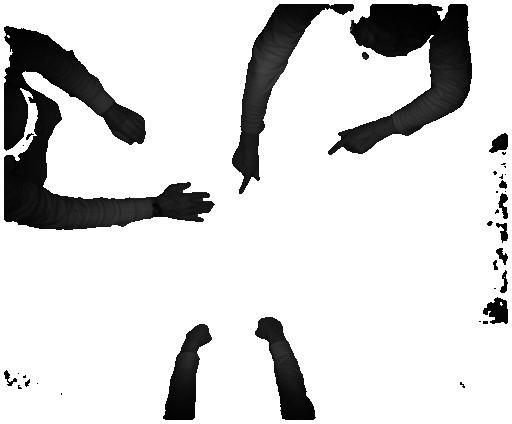fist: (108, 106, 151, 151), (248, 312, 289, 343), (186, 320, 215, 350)
hand: (161, 179, 215, 223), (328, 122, 387, 159), (232, 144, 263, 199)
